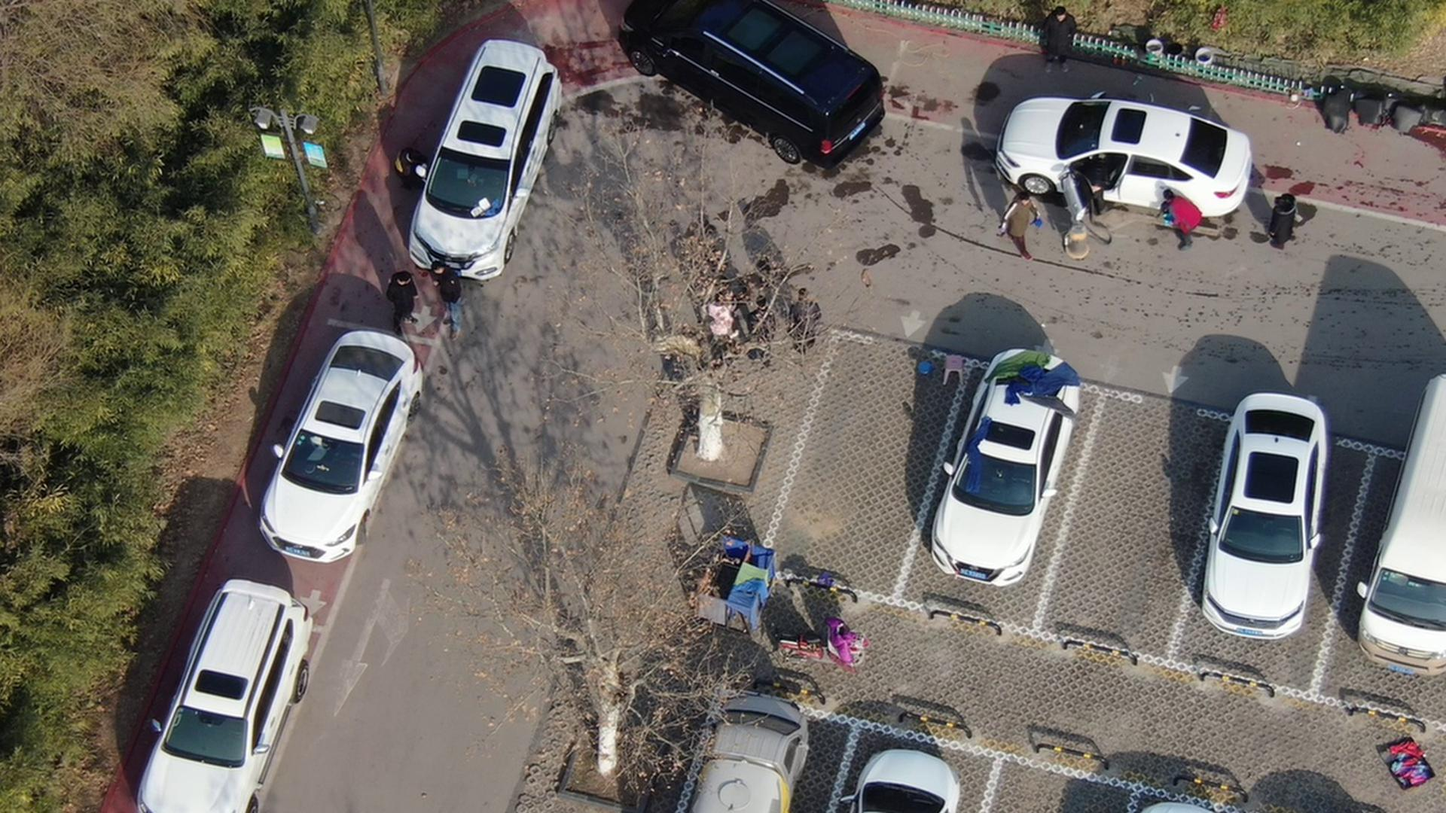human: (1161, 185, 1209, 256), (788, 285, 832, 357), (1042, 1, 1086, 69), (1268, 187, 1313, 253), (387, 266, 425, 339), (1008, 185, 1044, 260), (1082, 149, 1119, 215), (746, 295, 780, 362), (435, 276, 469, 342), (400, 146, 439, 193)
